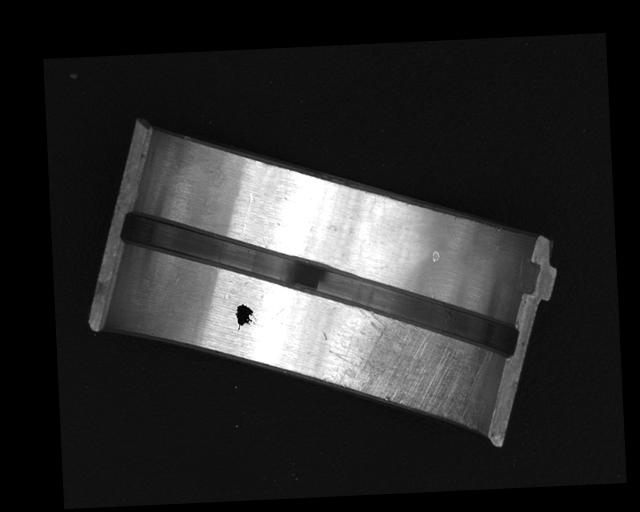blot: (233, 302, 256, 331)
bruise: (430, 250, 440, 264)
gap: (117, 194, 516, 374)
nick: (239, 192, 255, 240)
scratch: (322, 300, 479, 429)
